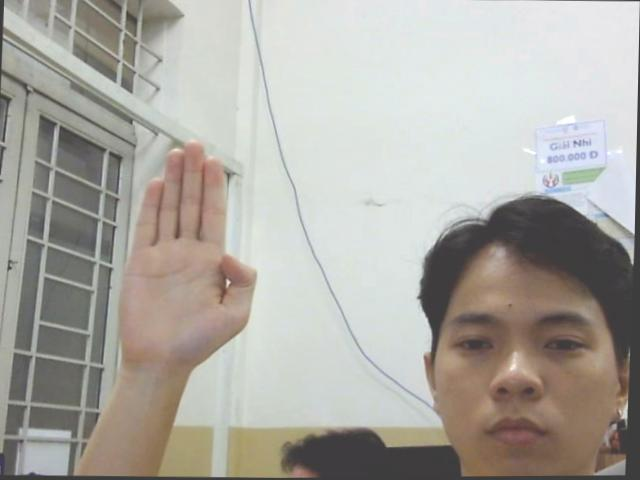B: (107, 132, 269, 376)
